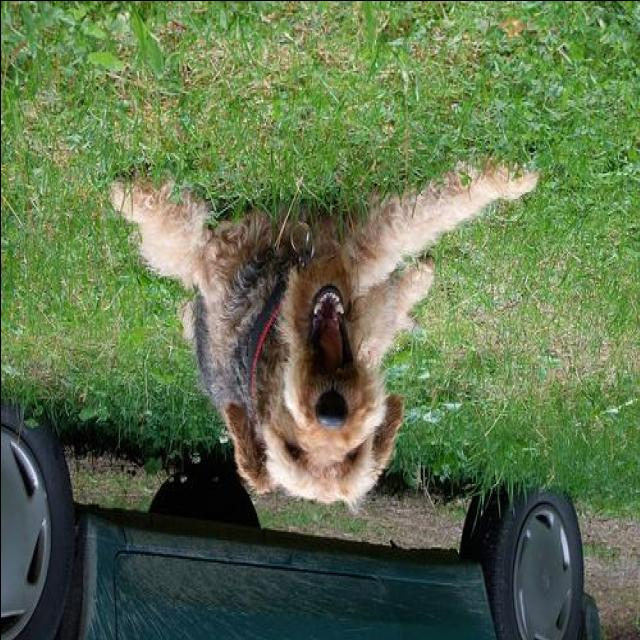airedale: (108, 153, 536, 518)
